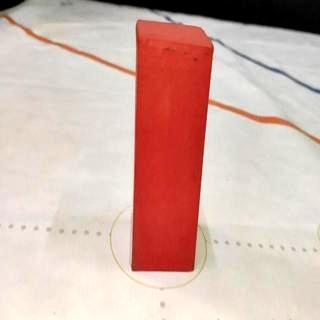redbox: (132, 20, 212, 274)
